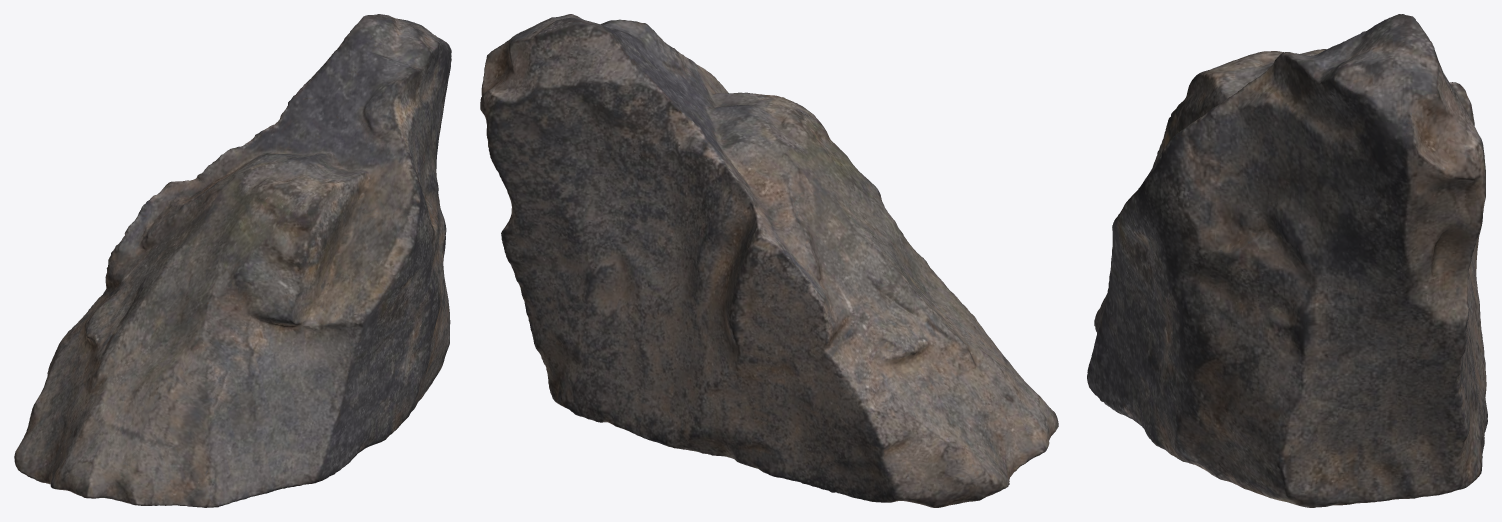
Rendered from hornfels.glb.
3 renders of one model, left to right at view 1: azimuth 30°, elevation 25°; view 2: azimuth 150°, elevation 25°; view 3: azimuth 270°, elevation 25°, orthographic. The views are drawn at different scales.
Parts seen in each view (by area): view 1: Object_2; view 2: Object_2; view 3: Object_2.
Part boxes in pixels (x1=…): Object_2: x1=14, y1=14, x2=451, y2=507; Object_2: x1=480, y1=14, x2=1058, y2=507; Object_2: x1=1087, y1=14, x2=1487, y2=507.
Bounding box in the file's own units: 0.06 × 0.0458 × 0.0327.
1 material, 1 textured.
